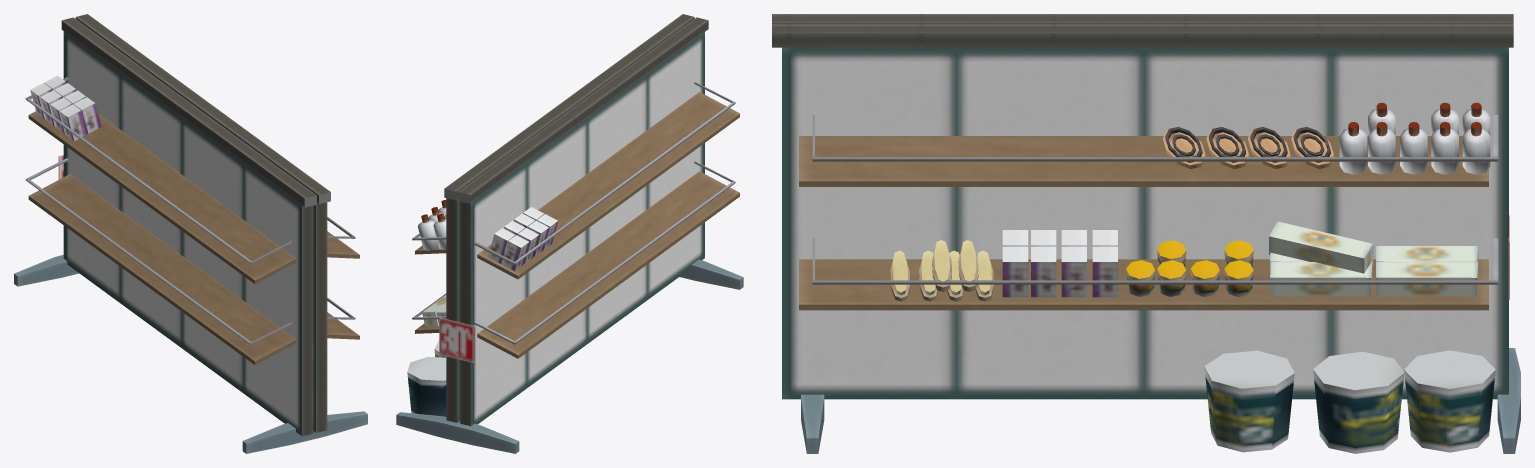
The model's file is shop_stand_1.FBX.
3 views of the same model, side by side, from view 1: azimuth 30°, elevation 25°; view 2: azimuth 150°, elevation 25°; view 3: azimuth 270°, elevation 25° (orthographic). The views are drawn at different scales.
Parts seen in each view (by area): view 1: shop_stand_1; view 2: shop_stand_1; view 3: shop_stand_1.
Boxes of the visible parts, x1,y1,x2,y2 form: shop_stand_1: [14, 14, 367, 453]; shop_stand_1: [396, 14, 743, 453]; shop_stand_1: [772, 14, 1520, 453].
Size of the model in its own units: 72.66 by 134 by 237.
1 material, 1 textured.
